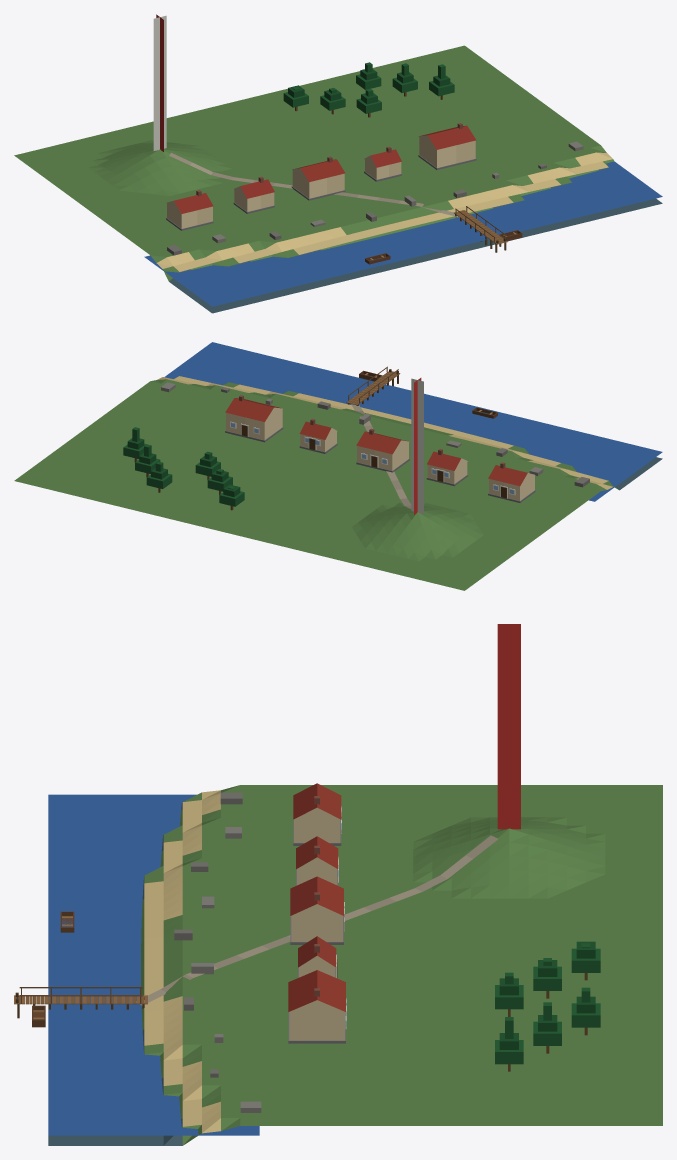
Rendered from scene_good_v2.obj.
3 views of the same model, one above another, from view 1: azimuth 30°, elevation 25°; view 2: azimuth 150°, elevation 25°; view 3: azimuth 270°, elevation 25° (orthographic). The views are drawn at different scales.
Visible parts, largest first — view 1: terrain, water, house_5, lighthouse_tower, house_3, house_1, house_2, house_4, path_1, pier_1, tree_6, tree_5 (+4 smaller); view 2: terrain, water, house_5, lighthouse_tower, house_3, house_1, house_2, house_4, pier_1, tree_4, tree_6, tree_5 (+4 smaller); view 3: terrain, water, lighthouse_tower, house_5, house_3, house_1, path_1, pier_1, house_2, house_4, tree_6, tree_4 (+4 smaller).
Boxes of the visible parts, <box> form: terrain: <box>14,45,662,313</box>; water: <box>144,161,662,306</box>; house_5: <box>418,123,476,169</box>; lighthouse_tower: <box>153,14,166,151</box>; house_3: <box>291,156,345,200</box>; house_1: <box>166,190,213,230</box>; house_2: <box>233,176,274,213</box>; house_4: <box>364,146,401,181</box>; path_1: <box>169,153,458,216</box>; pier_1: <box>454,206,507,252</box>; tree_6: <box>429,64,454,99</box>; tree_5: <box>392,63,417,96</box>; terrain: <box>14,376,662,590</box>; water: <box>164,342,662,501</box>; house_5: <box>225,395,283,442</box>; lighthouse_tower: <box>411,378,423,514</box>; house_3: <box>356,428,409,472</box>; house_1: <box>488,462,535,502</box>; house_2: <box>426,449,468,486</box>; house_4: <box>299,418,337,453</box>; pier_1: <box>346,366,400,405</box>; tree_4: <box>146,461,172,492</box>; tree_6: <box>123,427,146,462</box>; tree_5: <box>135,444,160,477</box>; terrain: <box>48,785,662,1145</box>; water: <box>48,794,259,1135</box>; lighthouse_tower: <box>497,624,520,829</box>; house_5: <box>288,970,346,1043</box>; house_3: <box>290,876,344,944</box>; house_1: <box>293,783,341,845</box>; path_1: <box>136,835,497,1005</box>; pier_1: <box>14,987,147,1018</box>; house_2: <box>296,836,338,885</box>; house_4: <box>298,936,337,977</box>; tree_6: <box>495,1017,523,1071</box>; tree_4: <box>571,987,600,1035</box>.
Bounding box in the file's own units: 84 × 29.2 × 67.57.
